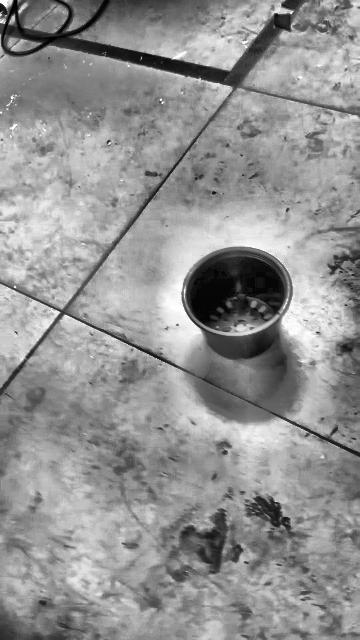pot: (183, 247, 293, 359)
